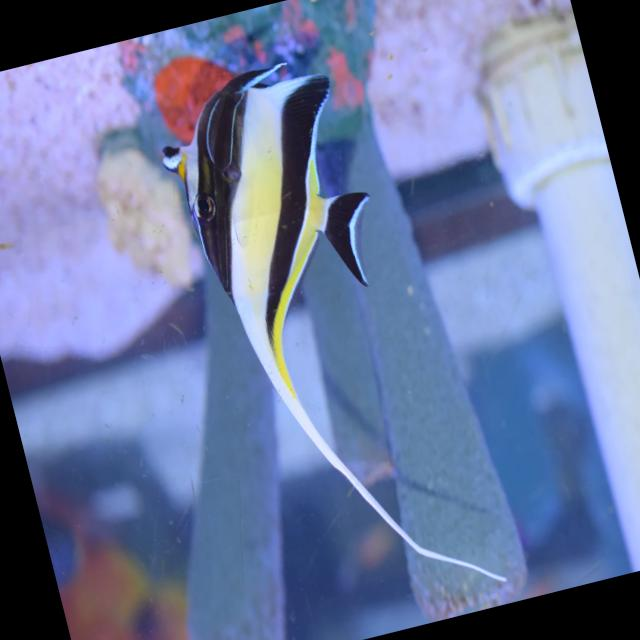MorishIdol: (140, 30, 510, 639)
